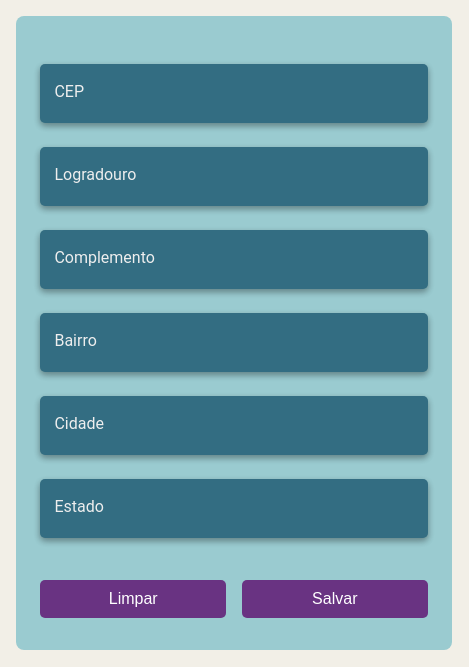
Test case: Formulário de Endereço › deve preencher automaticamente o endereço ao digitar um CEP válido
Type "01001000" into the field with test id "cep-input" at (234, 94), box [52,76,415,111]
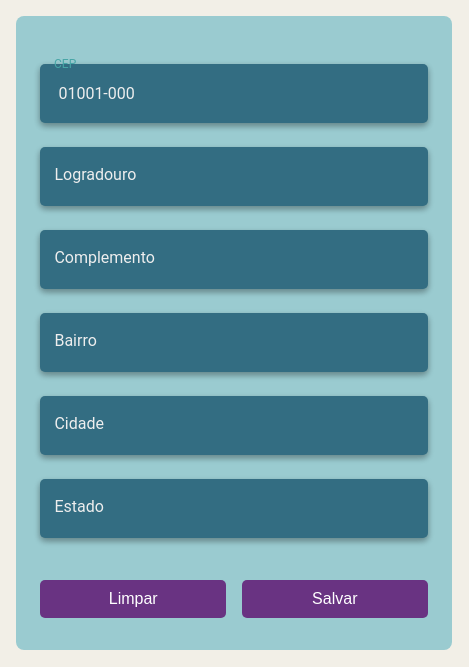
Leave the field with test id "cep-input", box [52,76,415,111]
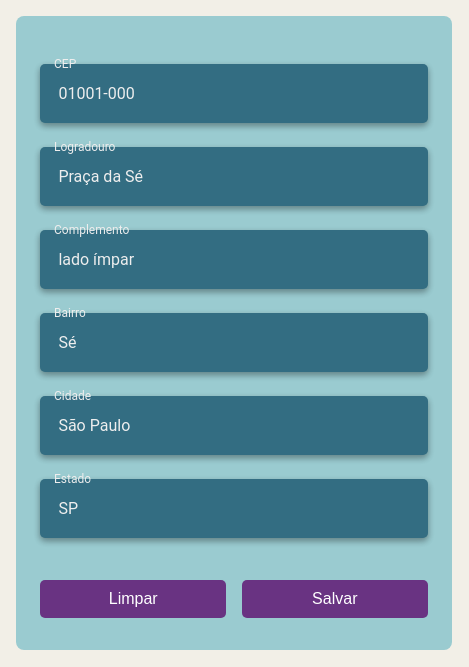
Check: the field with test id "street-input" holds "Praça da Sé", box [52,159,415,194]
Check: the field with test id "district-input" holds "Sé", box [52,325,415,360]
Check: the field with test id "city-input" holds "São Paulo", box [52,408,415,443]
